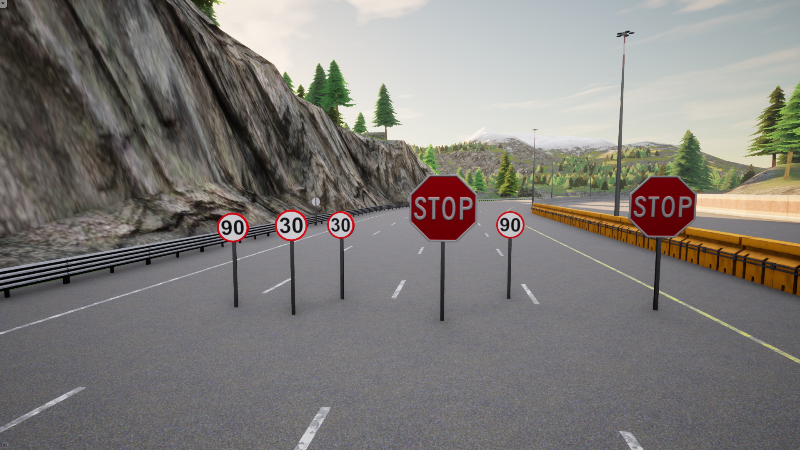fast: (217, 213, 249, 243), (495, 211, 525, 239)
slow: (275, 209, 308, 242), (327, 211, 355, 239)
stop: (409, 174, 477, 242), (628, 175, 697, 239)
